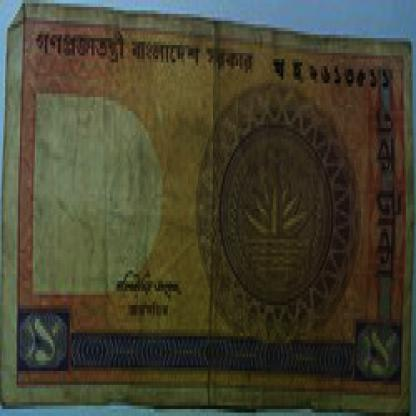One Taka: (371, 94, 404, 291), (18, 308, 67, 371), (356, 322, 401, 385)
